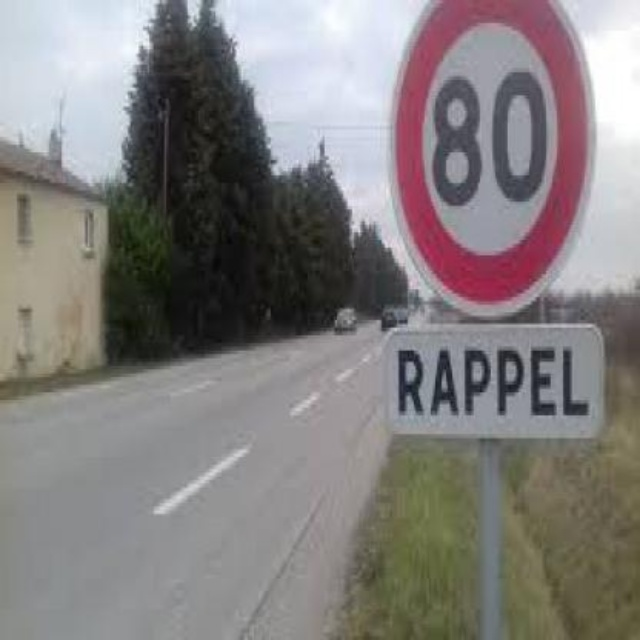Tốc độ tối đa cho phép 80km/h: (404, 2, 585, 309)
